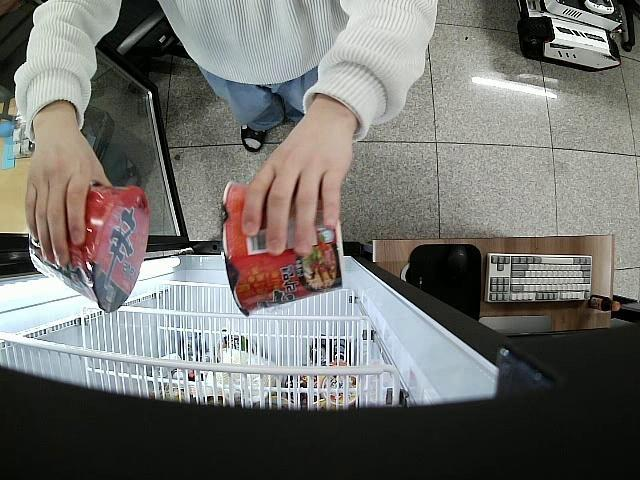01_ShinRamen_L: (218, 179, 344, 318), (30, 185, 150, 313)
